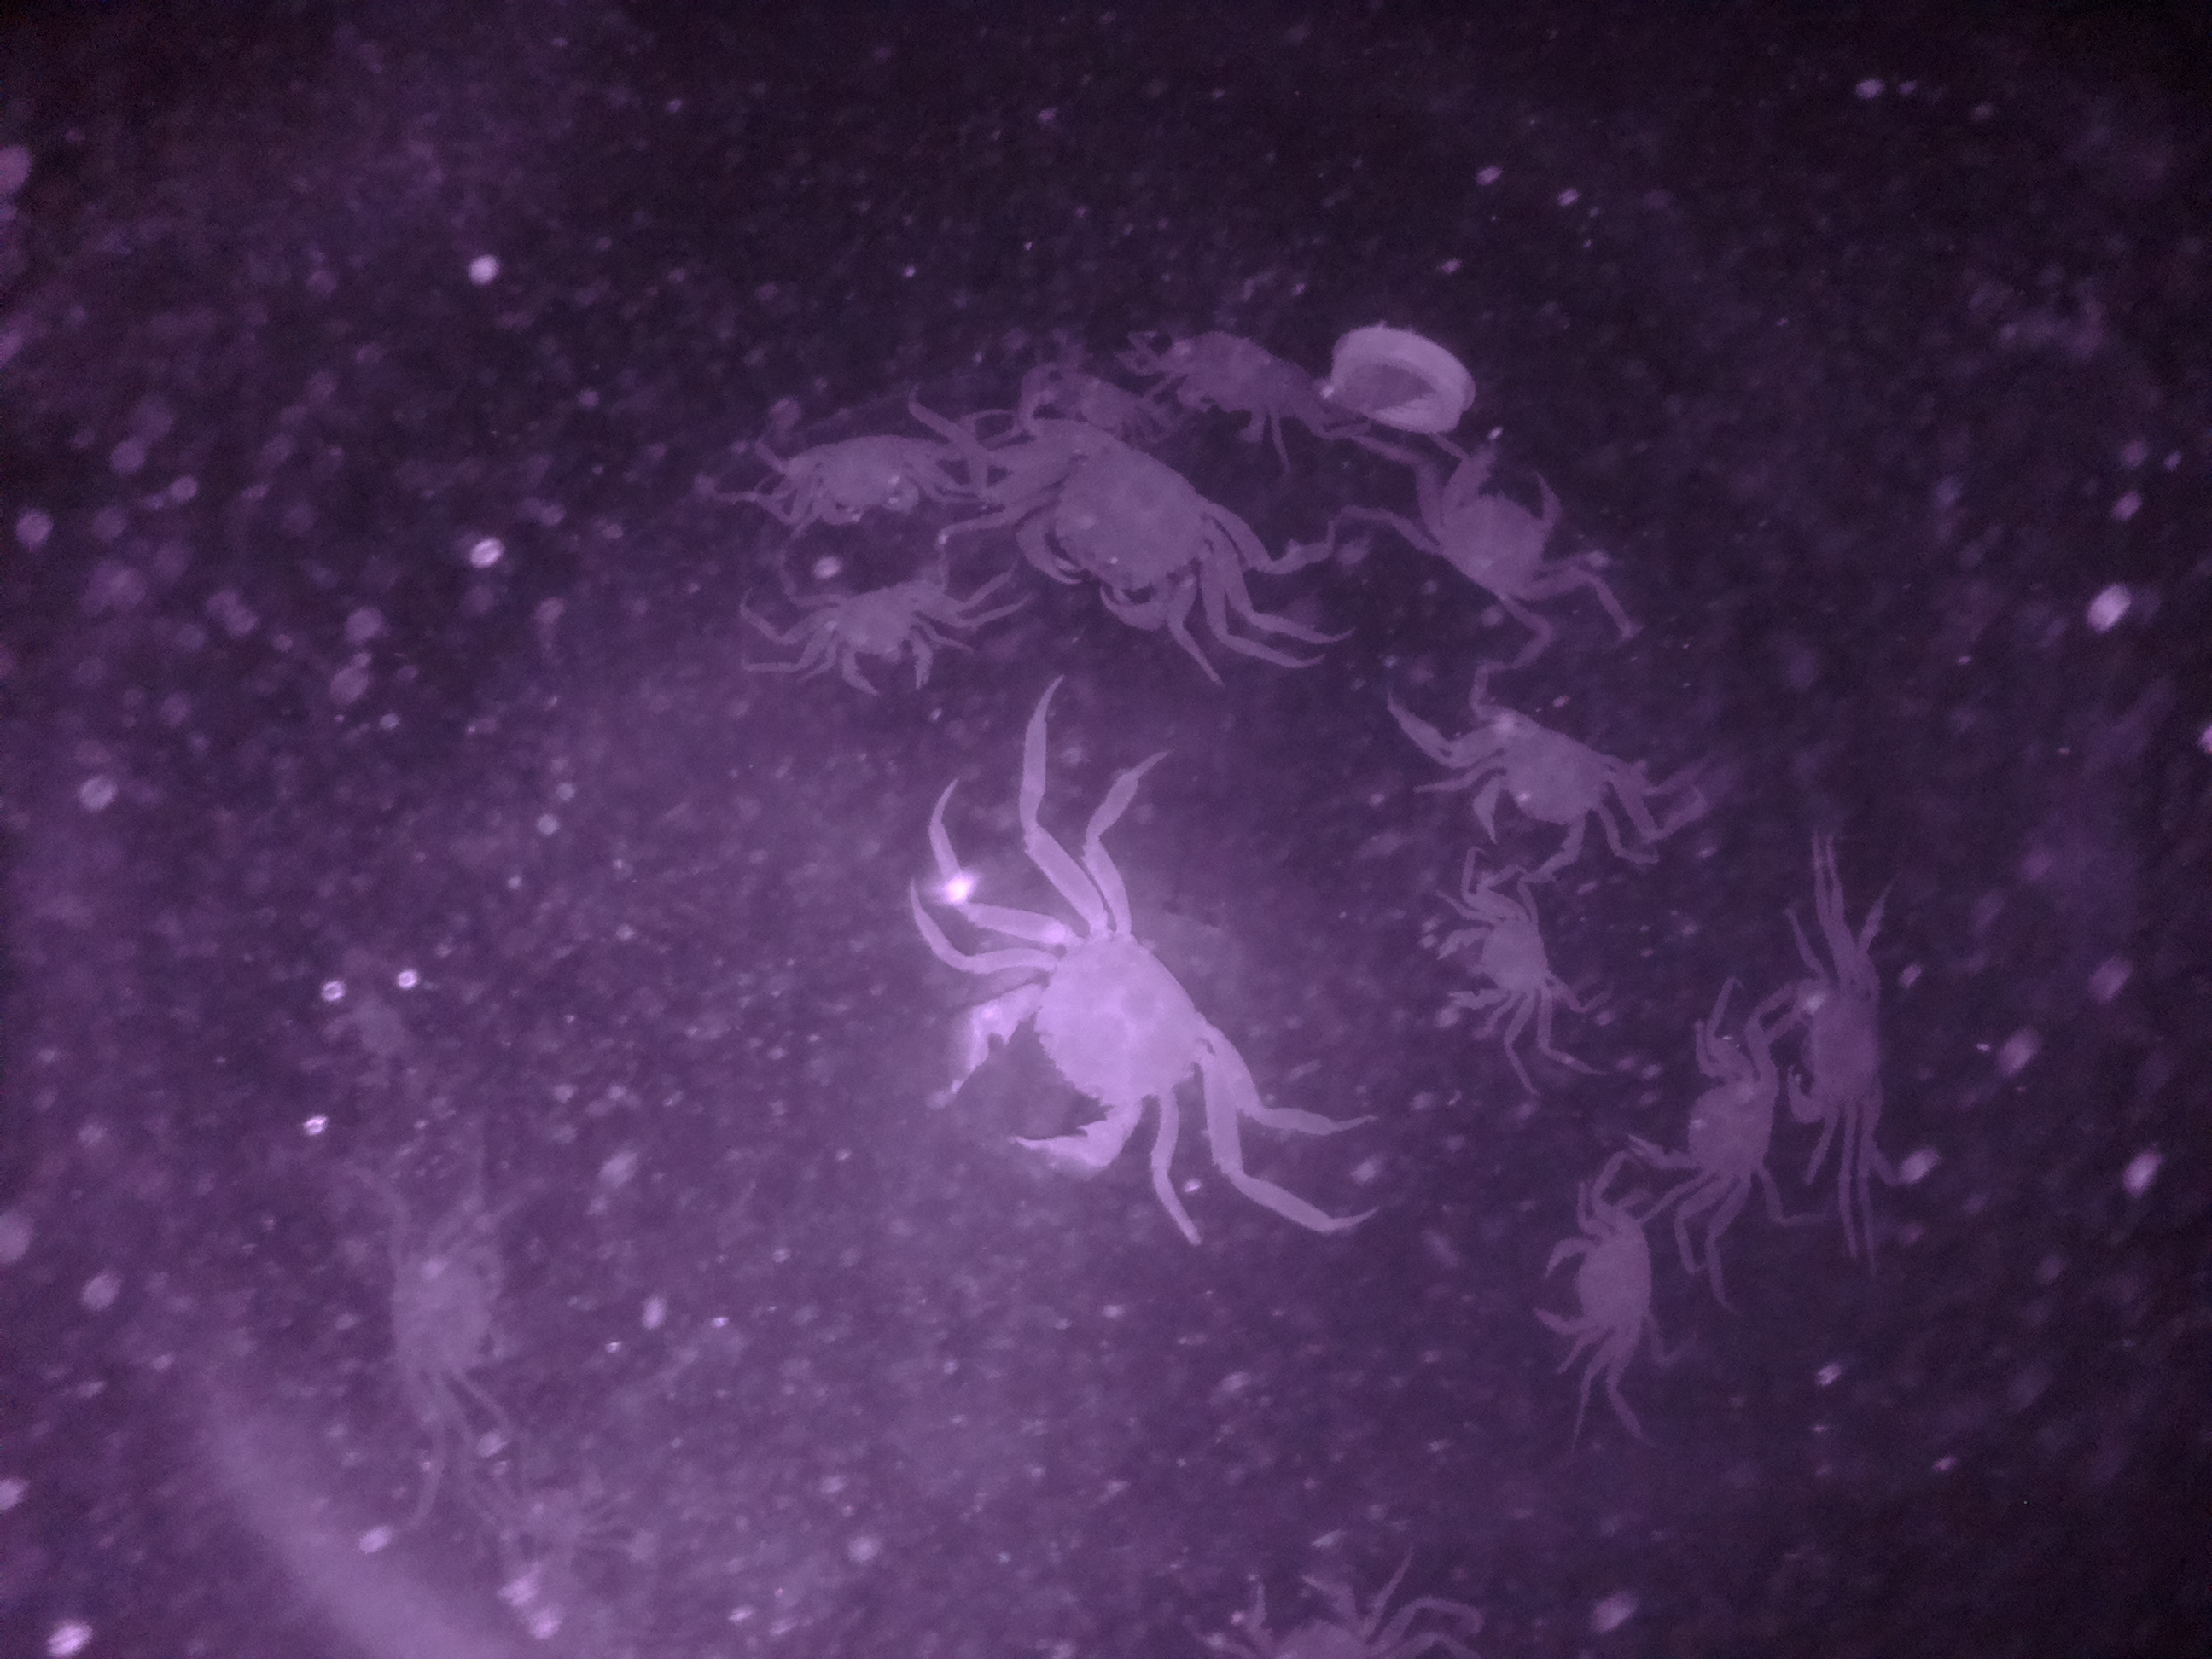Crab: (911, 908, 1226, 1197), (1003, 415, 1238, 643), (1407, 439, 1609, 633), (1458, 706, 1641, 887), (1778, 941, 1930, 1150), (1629, 1026, 1785, 1220), (1165, 321, 1348, 453), (1531, 1202, 1665, 1370), (1426, 877, 1562, 1037), (805, 570, 956, 711), (777, 418, 942, 533)
